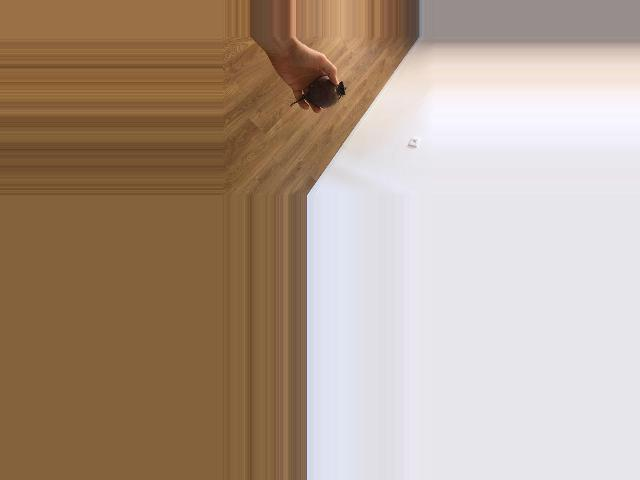beet: (290, 76, 345, 109)
